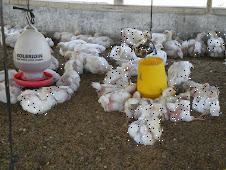chicken: (127, 103, 163, 146), (170, 90, 205, 121), (21, 88, 57, 116), (191, 86, 222, 117), (105, 59, 134, 86), (56, 59, 80, 88), (121, 29, 151, 52), (84, 54, 113, 77), (169, 62, 194, 87), (188, 33, 207, 56), (207, 32, 225, 56), (111, 47, 135, 63)
